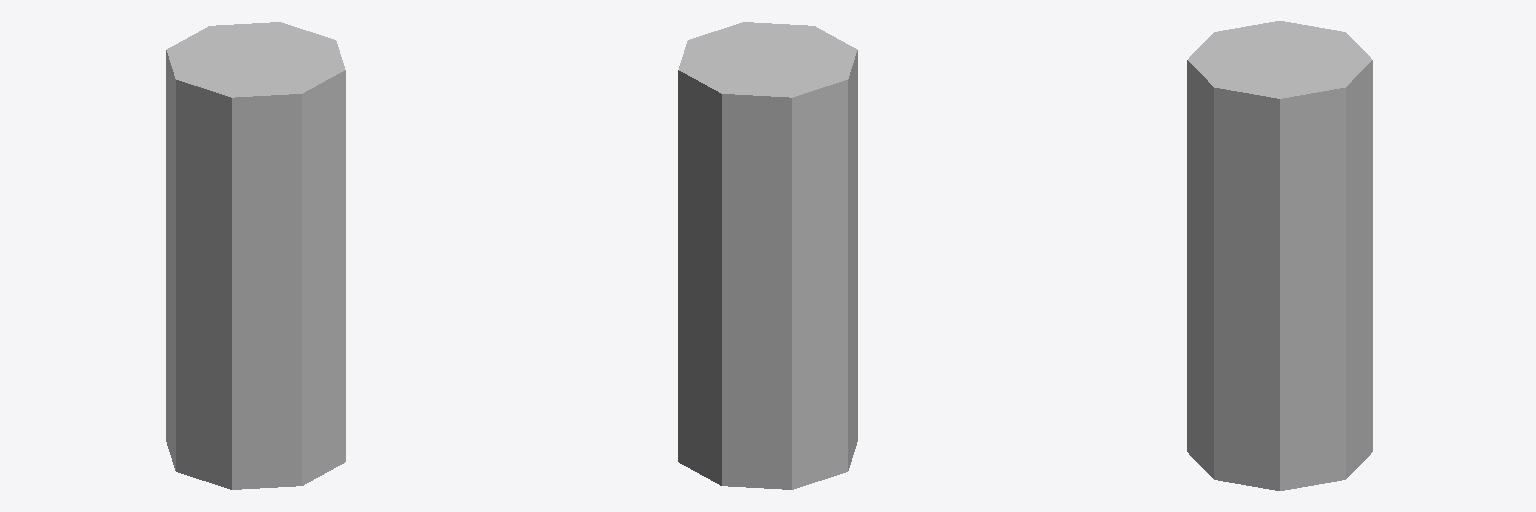
File: HollandaiseSauce.obj
The picture shows the model from 3 angles: view 1: azimuth 30°, elevation 25°; view 2: azimuth 150°, elevation 25°; view 3: azimuth 270°, elevation 25°; orthographic projection.
Visible parts, largest first — view 1: HollandaiseSauce; view 2: HollandaiseSauce; view 3: HollandaiseSauce.
Part boxes in pixels (left/top/right/bottom): HollandaiseSauce: left=166, top=22, right=345, bottom=489; HollandaiseSauce: left=678, top=22, right=857, bottom=489; HollandaiseSauce: left=1187, top=21, right=1372, bottom=490.
Size of the model in its own units: 0.03 by 0.07 by 0.03.